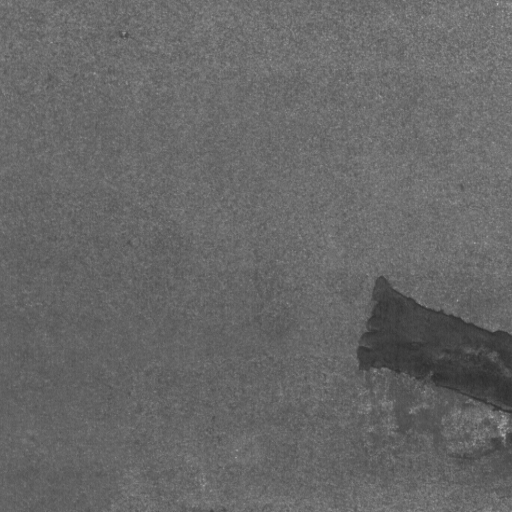qiaopi: (354, 274, 512, 415)
